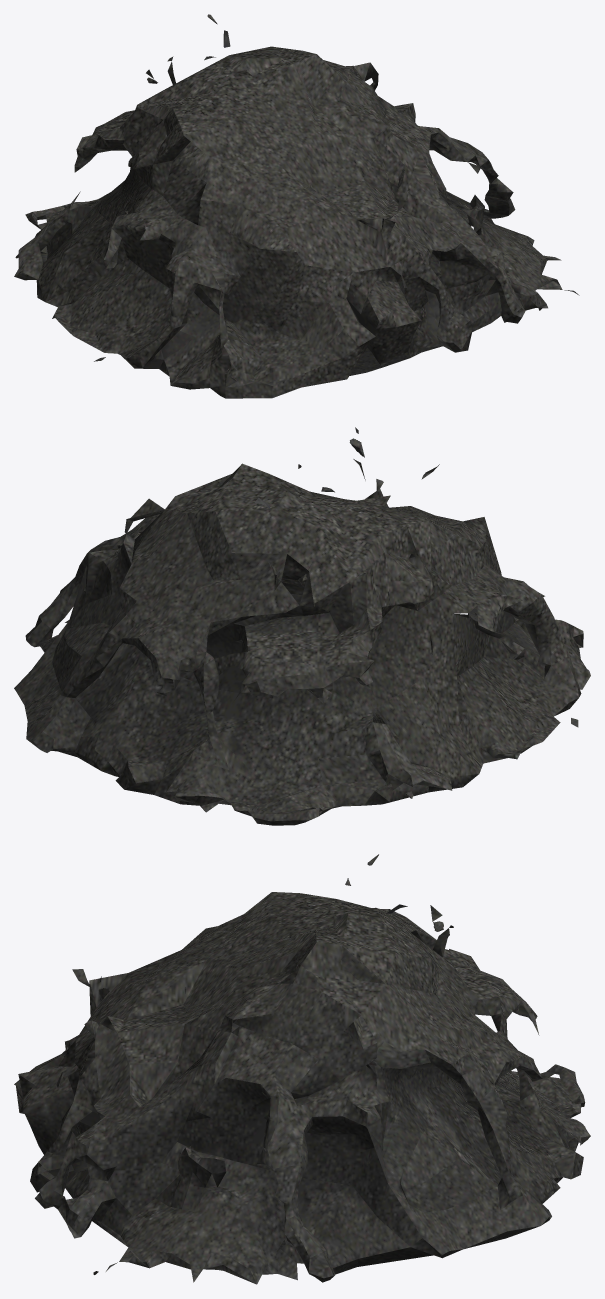
File: m12-grave-moss-pixelated.glb
The picture shows the model from 3 angles, top to bottom: view 1: azimuth 30°, elevation 25°; view 2: azimuth 150°, elevation 25°; view 3: azimuth 270°, elevation 25°; orthographic projection. The views are drawn at different scales.
Parts seen in each view (by area): view 1: m12-grave-moss.glb; view 2: m12-grave-moss.glb; view 3: m12-grave-moss.glb.
Boxes of the visible parts, x1,y1,x2,y2 form: m12-grave-moss.glb: [14, 14, 579, 398]; m12-grave-moss.glb: [14, 427, 590, 825]; m12-grave-moss.glb: [14, 854, 590, 1284].
Bounding box in the file's own units: 1.69 × 0.8907 × 1.63.
1 material, 1 textured.
